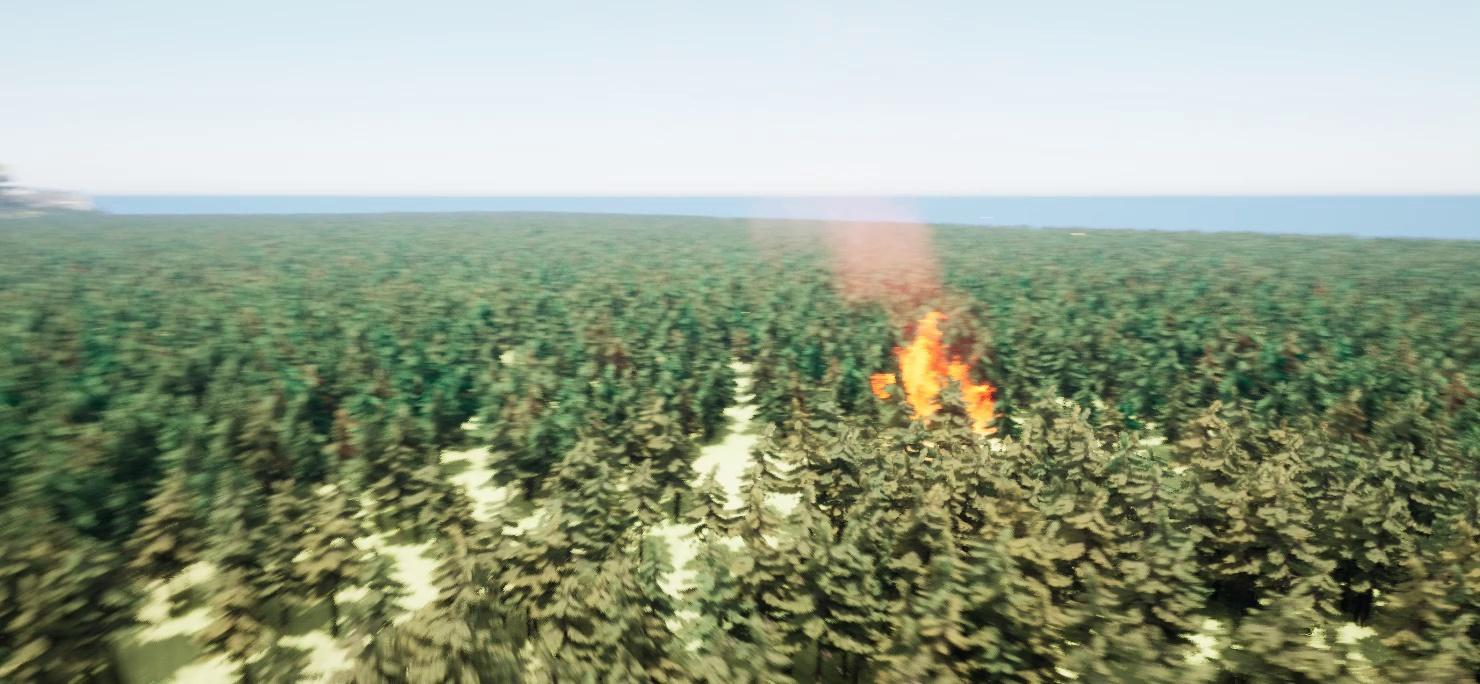fire: (869, 311, 1002, 436)
smoke: (813, 200, 972, 308)
